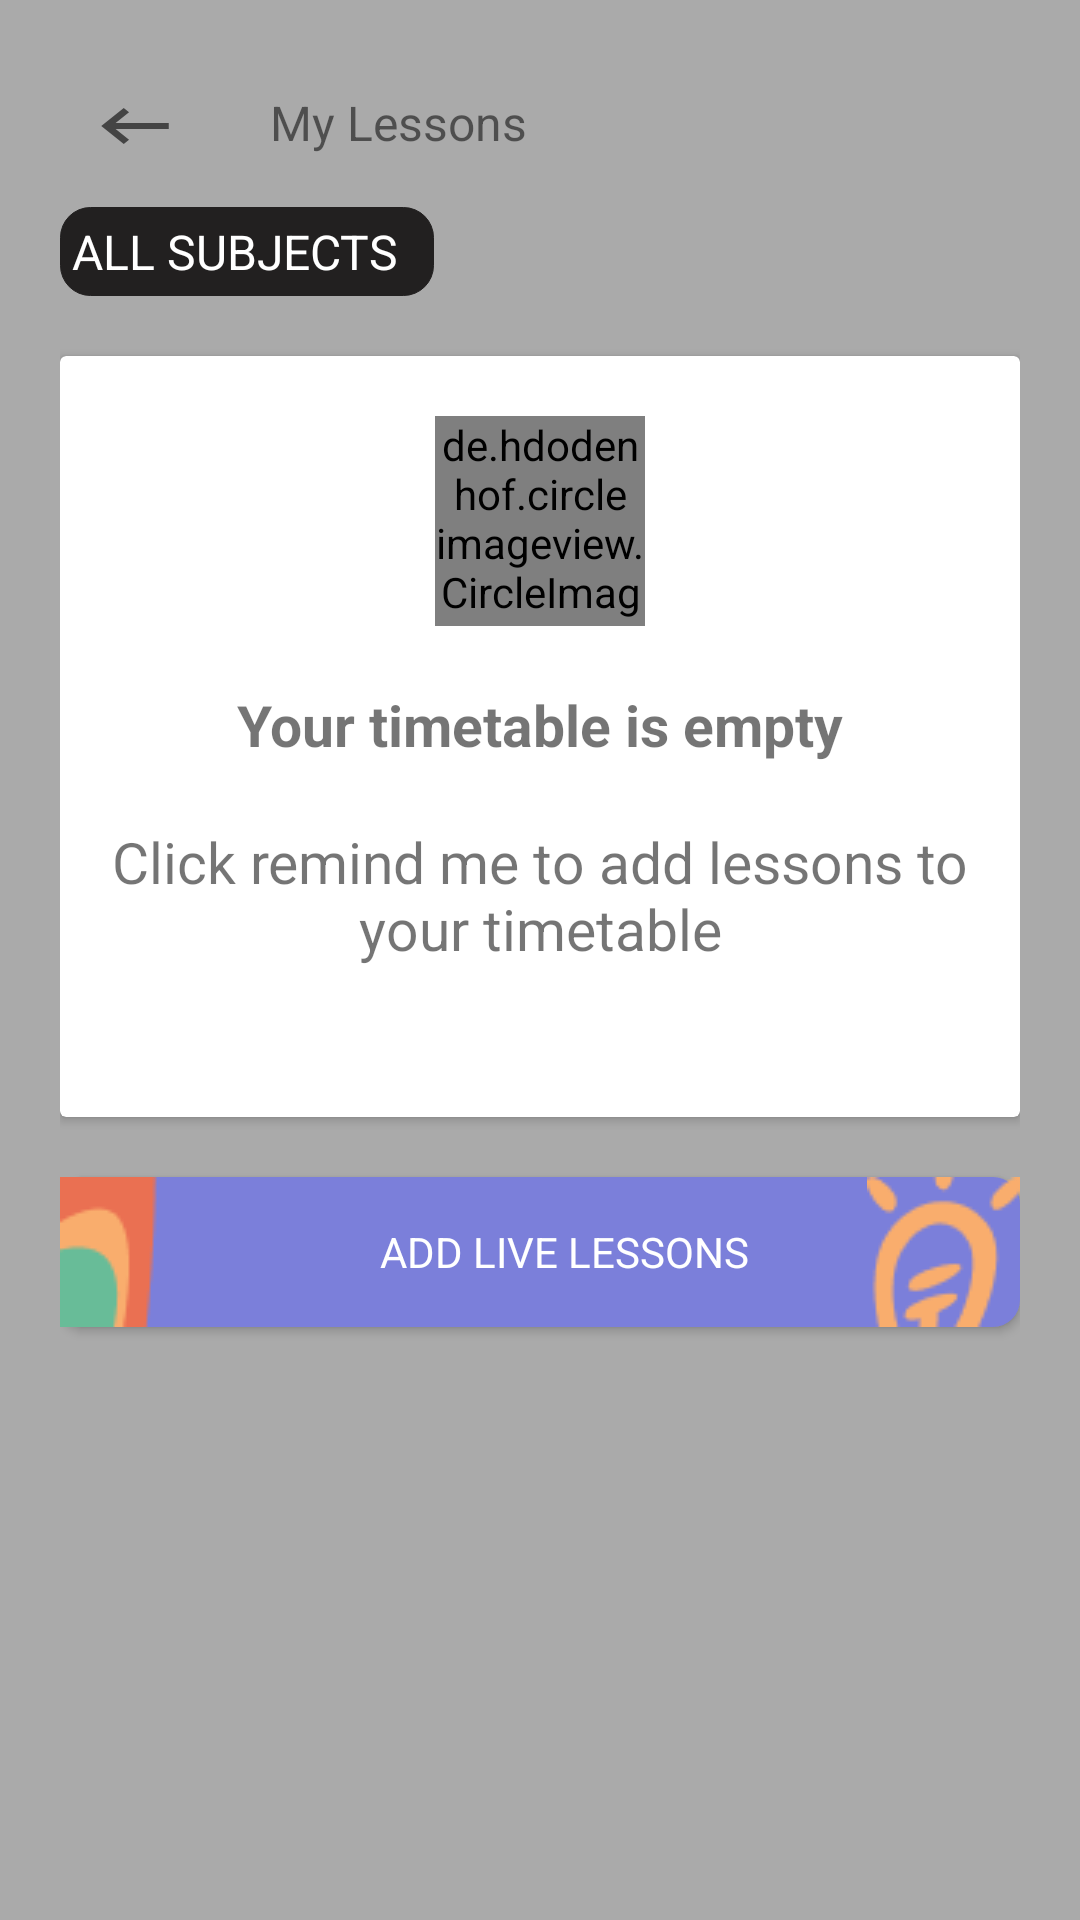

Screen size 1080px×1920px. Icon name, then its box in pixels as (x1, y1, x2, y2):
keyboard backspace: (102, 108, 169, 144)
